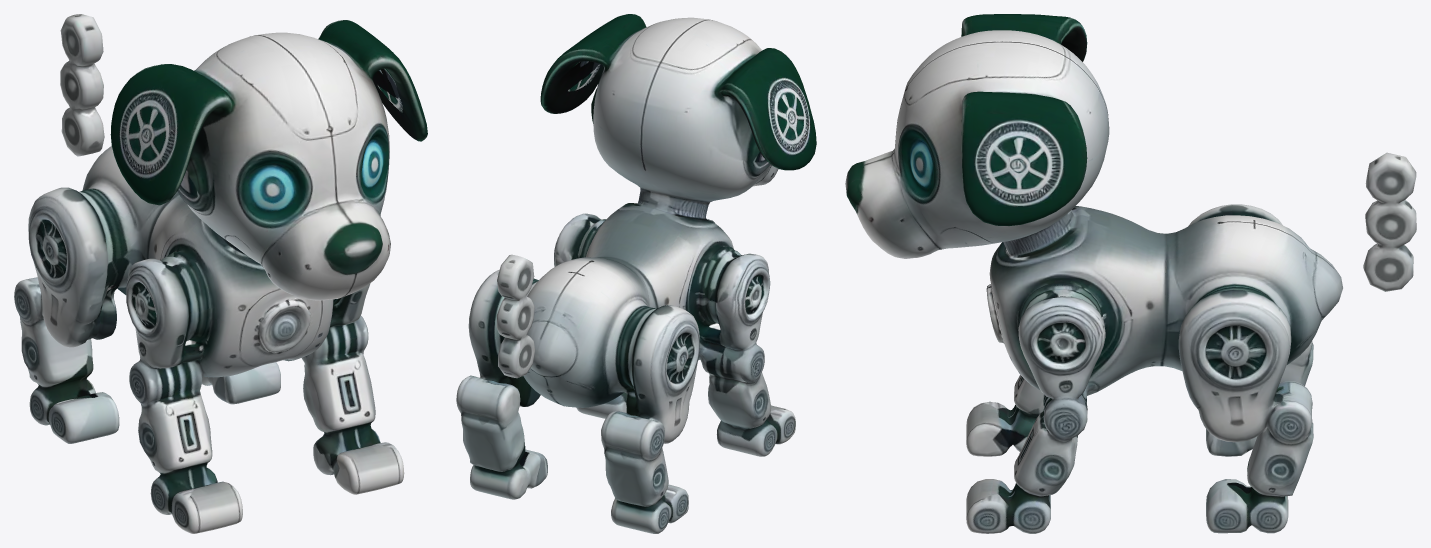
File: robo-dog-v2-CaetjzLX.glb
The picture shows the model from 3 angles, left to right: view 1: azimuth 30°, elevation 25°; view 2: azimuth 150°, elevation 25°; view 3: azimuth 270°, elevation 25°; orthographic projection. The views are drawn at different scales.
Parts seen in each view (by area): view 1: Object_2; view 2: Object_2; view 3: Object_2.
Boxes of the visible parts, x1=… form: Object_2: x1=14, y1=14, x2=427, y2=533; Object_2: x1=456, y1=14, x2=816, y2=533; Object_2: x1=845, y1=14, x2=1416, y2=533.
Size of the model in its own units: 1.03 by 1.61 by 1.89.
Materials: 1 (1 with a texture image).
